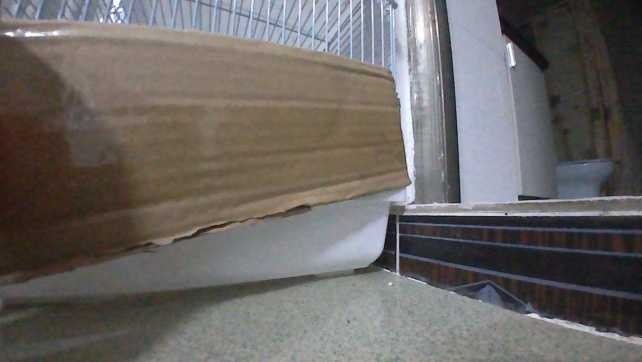door_sill: (387, 195, 640, 335)
toilet: (554, 156, 613, 196)
